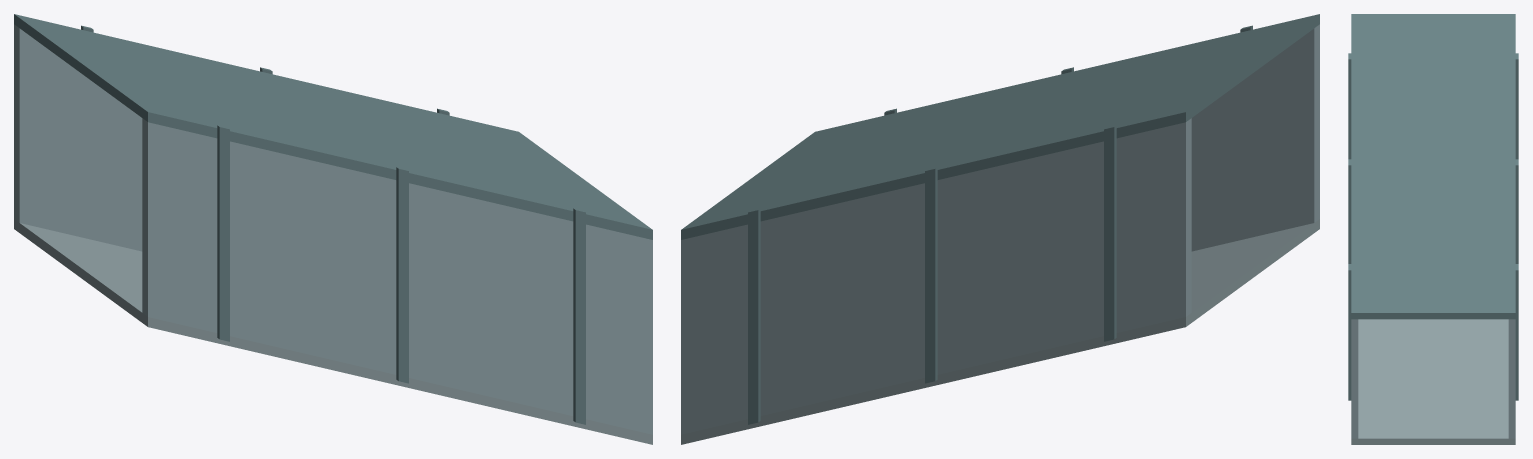
File: Systems-VentSlope.fbx
The picture shows the model from 3 angles, left to right: view 1: azimuth 30°, elevation 25°; view 2: azimuth 150°, elevation 25°; view 3: azimuth 270°, elevation 25°; orthographic projection. The views are drawn at different scales.
Parts seen in each view (by area): view 1: Left Wall, Removable Roof Panel, Right Wall, Continuous Floor, External Seam Strap, External Seam Strap.002, External Seam Strap.004; view 2: Right Wall, Removable Roof Panel, Left Wall, Continuous Floor, External Seam Strap.001, External Seam Strap.003, External Seam Strap.005; view 3: Removable Roof Panel, Continuous Floor, Left Wall, Right Wall, External Seam Strap.004, External Seam Strap.005, External Seam Strap, External Seam Strap.001, External Seam Strap.002, External Seam Strap.003.
Boxes of the visible parts, x1,y1,x2,y2 form: Left Wall: (142, 118, 652, 434); Removable Roof Panel: (14, 14, 652, 239); Right Wall: (14, 24, 142, 251); Continuous Floor: (14, 219, 652, 444); External Seam Strap: (217, 125, 229, 341); External Seam Strap.002: (396, 167, 408, 383); External Seam Strap.004: (573, 208, 585, 424); Right Wall: (681, 118, 1191, 434); Removable Roof Panel: (681, 14, 1319, 239); Left Wall: (1191, 24, 1319, 251); Continuous Floor: (681, 219, 1319, 444); External Seam Strap.001: (1104, 125, 1116, 341); External Seam Strap.003: (925, 167, 937, 383); External Seam Strap.005: (748, 208, 760, 424); Removable Roof Panel: (1351, 14, 1515, 319); Continuous Floor: (1351, 319, 1515, 444); Left Wall: (1351, 319, 1358, 438); Right Wall: (1508, 319, 1515, 438); External Seam Strap.004: (1348, 264, 1351, 400); External Seam Strap.005: (1515, 264, 1518, 400); External Seam Strap: (1348, 53, 1351, 159); External Seam Strap.001: (1515, 53, 1518, 159); External Seam Strap.002: (1348, 159, 1351, 263); External Seam Strap.003: (1515, 159, 1518, 263).
Bounding box in the file's own units: 2.85 × 2.46 × 1.36.
